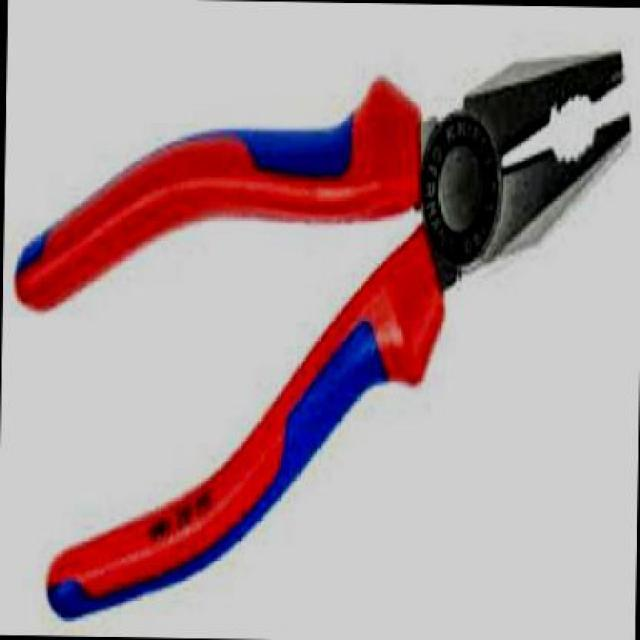pliers: (0, 19, 640, 638)
